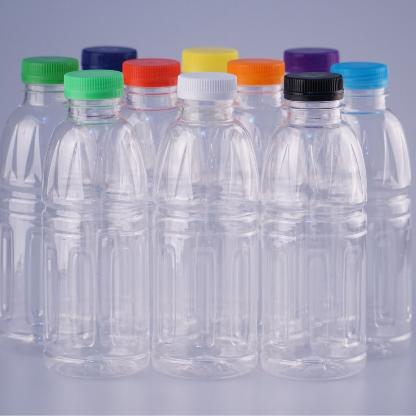Plastic Bottle: (258, 51, 368, 392), (152, 68, 262, 388), (76, 67, 150, 373), (0, 61, 76, 337)
